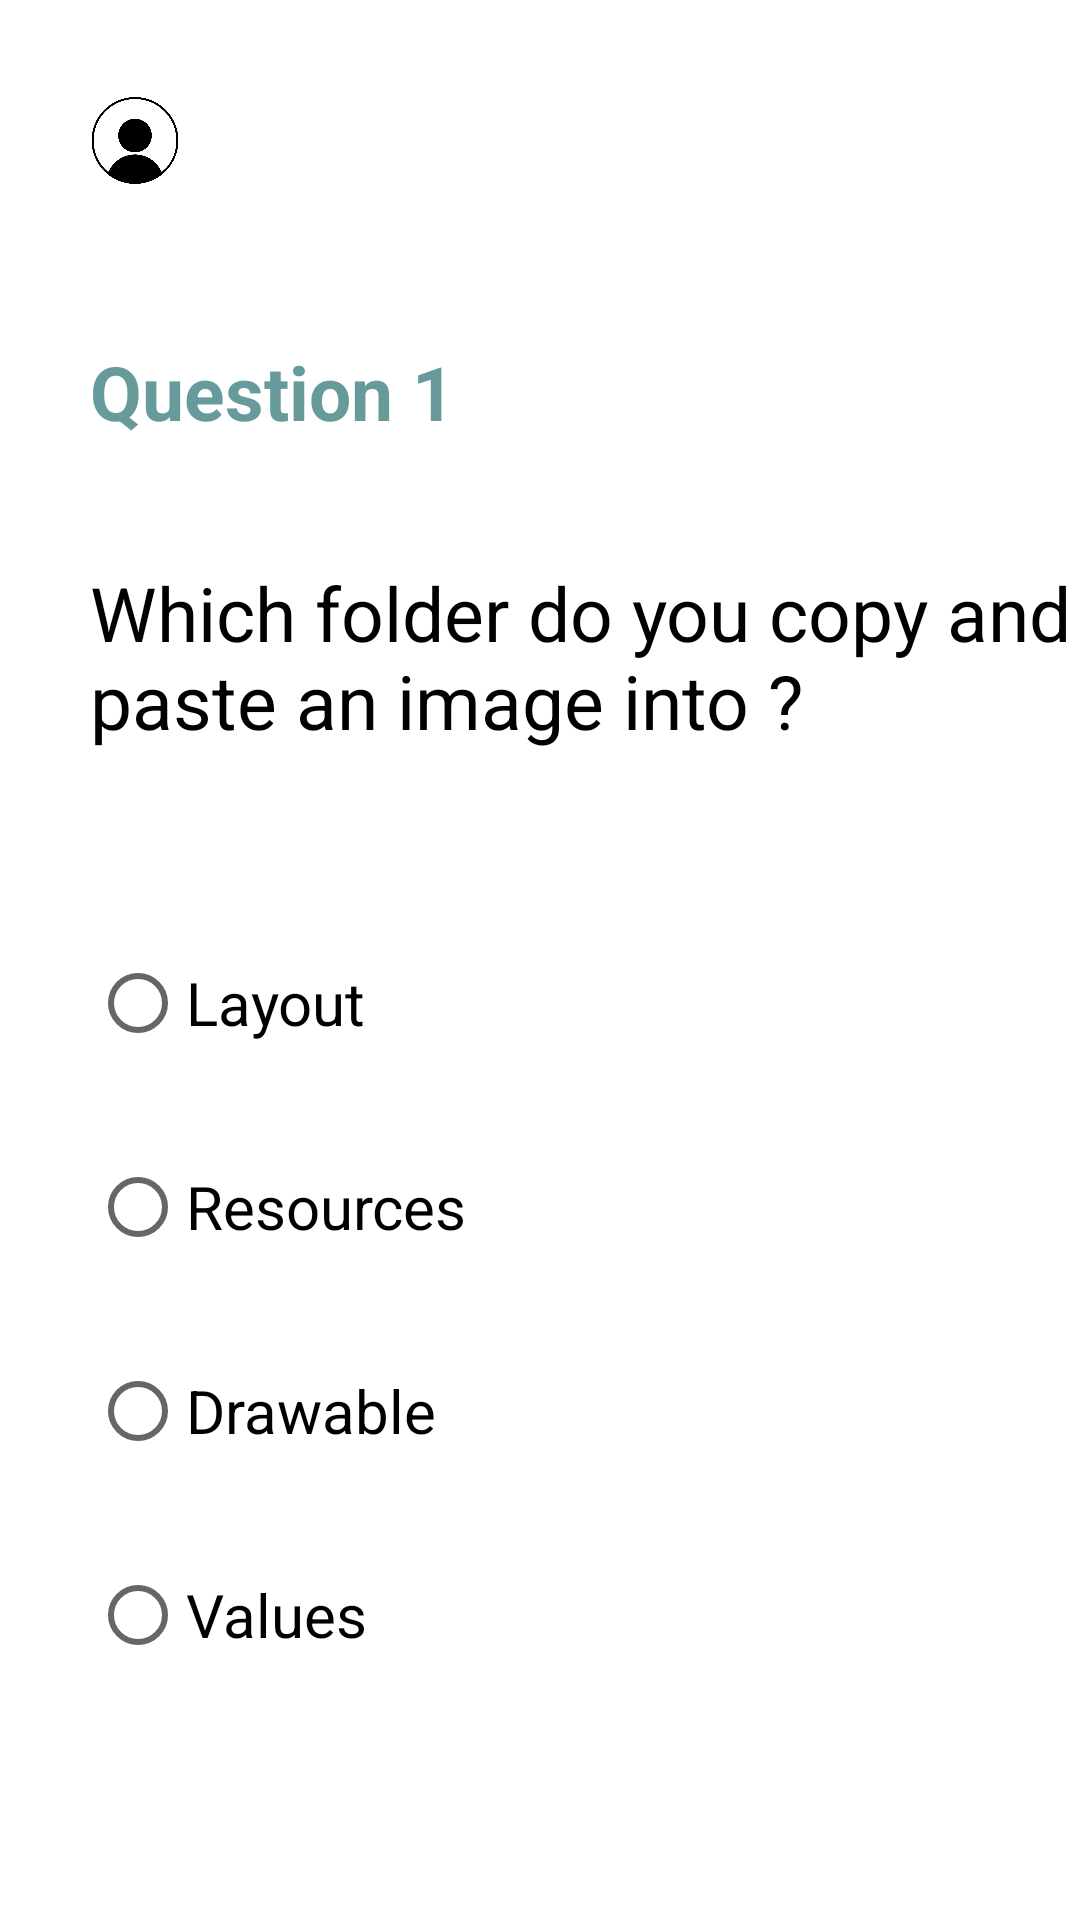

Icon click points for this 1080x1920 phone screenshot, format (x=x, y=y):
profil: (x=135, y=140)
